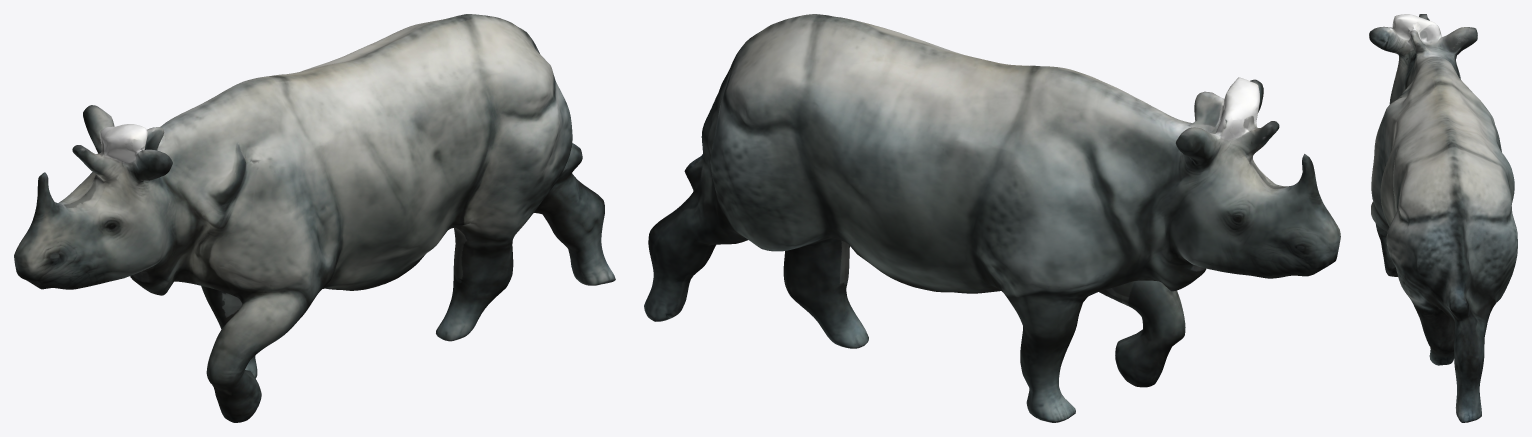
The model's file is 0_JCy_DasvNn8rYBJb_removebg_preview_0610212512.fbx.
The picture shows the model from 3 angles, left to right: view 1: azimuth 30°, elevation 25°; view 2: azimuth 150°, elevation 25°; view 3: azimuth 270°, elevation 25°; orthographic projection. The views are drawn at different scales.
Parts seen in each view (by area): view 1: Mesh_0; view 2: Mesh_0; view 3: Mesh_0.
Part boxes in pixels (x1=…): Mesh_0: x1=14, y1=14, x2=615, y2=422; Mesh_0: x1=644, y1=14, x2=1340, y2=422; Mesh_0: x1=1369, y1=14, x2=1517, y2=422.
Size of the model in its own units: 120 by 58.76 by 34.16.
Materials: 1 (1 with a texture image).
